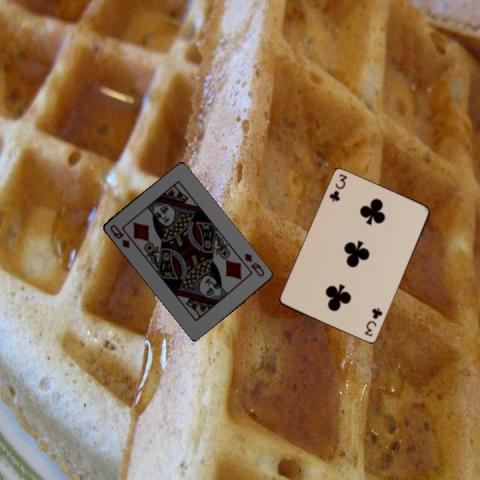3c: (326, 172, 349, 204), (362, 305, 384, 338)
Qd: (106, 221, 136, 250), (241, 250, 266, 278)
